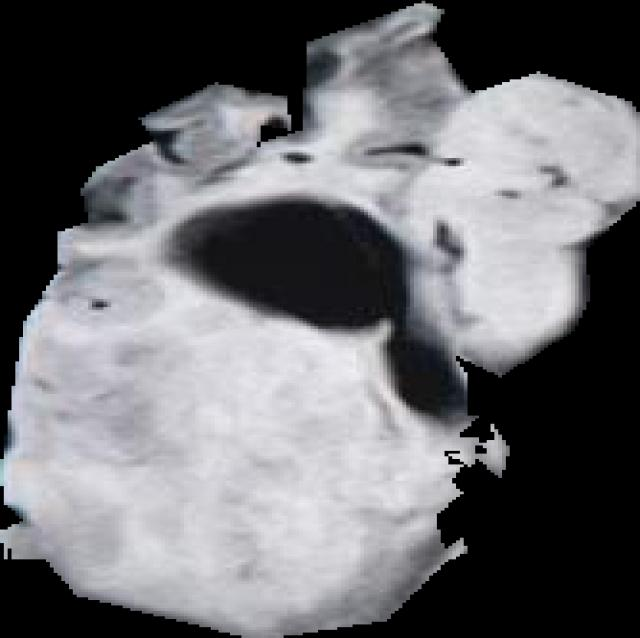tumor_less_chance: (0, 1, 640, 638)
